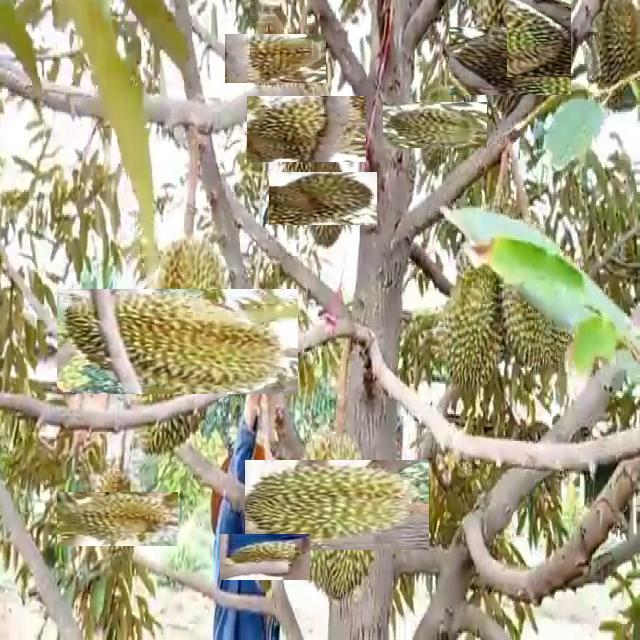durian: (91, 255, 264, 429), (268, 437, 406, 574), (434, 246, 510, 398), (496, 249, 580, 372), (462, 14, 558, 109), (260, 82, 352, 176), (73, 475, 161, 563), (282, 157, 363, 239), (397, 88, 473, 163), (238, 21, 313, 96), (502, 0, 576, 72), (587, 2, 638, 95), (231, 523, 299, 592)
